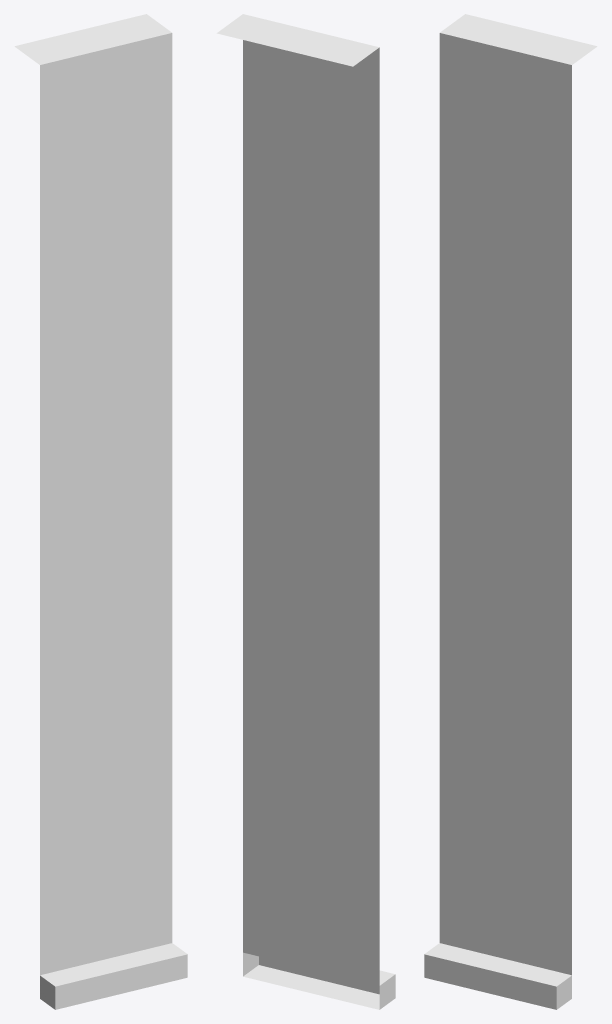
The model's file is 08_wall.FBX.
3 views of the same model, side by side, from view 1: azimuth 30°, elevation 25°; view 2: azimuth 150°, elevation 25°; view 3: azimuth 330°, elevation 25° (orthographic). The views are drawn at different scales.
Visible parts, largest first — view 1: 08_wall; view 2: 08_wall; view 3: 08_wall.
Boxes of the visible parts, x1,y1,x2,y2 form: 08_wall: [14, 14, 187, 1009]; 08_wall: [216, 14, 395, 1009]; 08_wall: [424, 14, 597, 1009].
Bounding box in the file's own units: 64.11 × 432 × 34.48.
